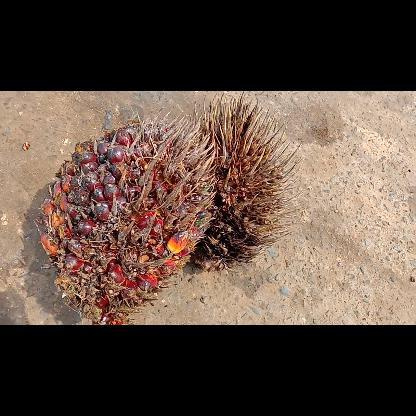Janjang kosong: (190, 91, 306, 271)
TBS masak: (40, 112, 218, 324)
